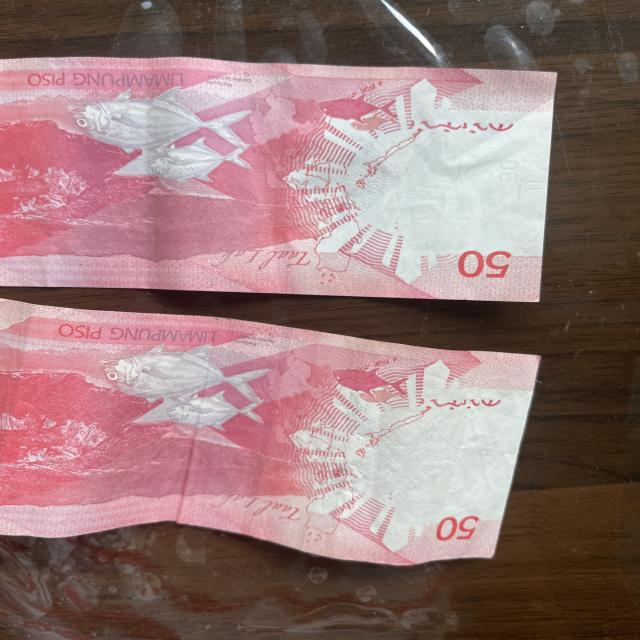50_maliputo: (96, 336, 293, 439), (61, 83, 256, 186)
50_maliputo_watermark: (309, 90, 415, 135), (326, 363, 420, 408)
value_watermark: (489, 152, 531, 191), (471, 430, 504, 464)
watermark: (398, 134, 535, 242), (398, 406, 499, 521)
